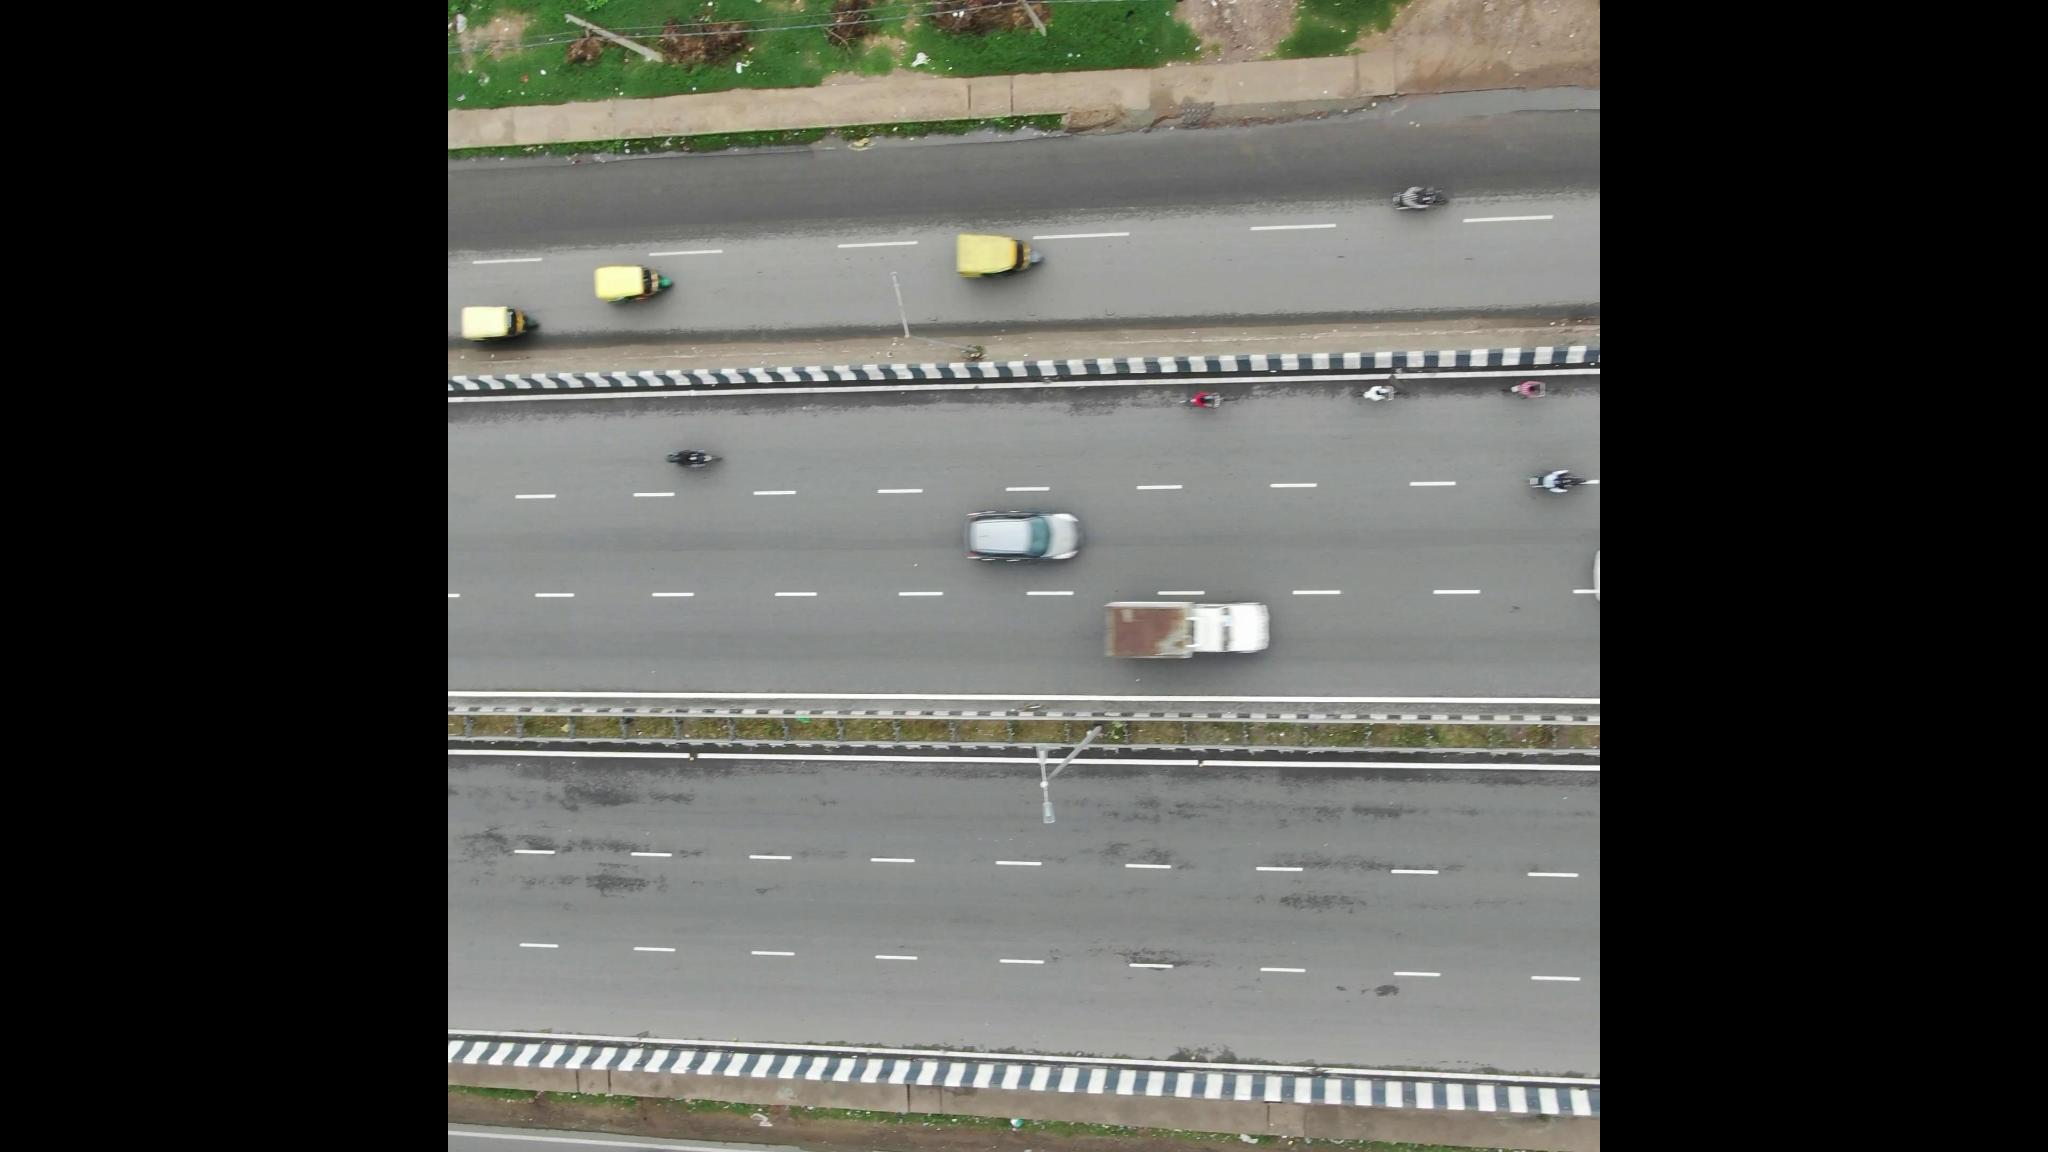Ravelling: (452, 764, 678, 923)
